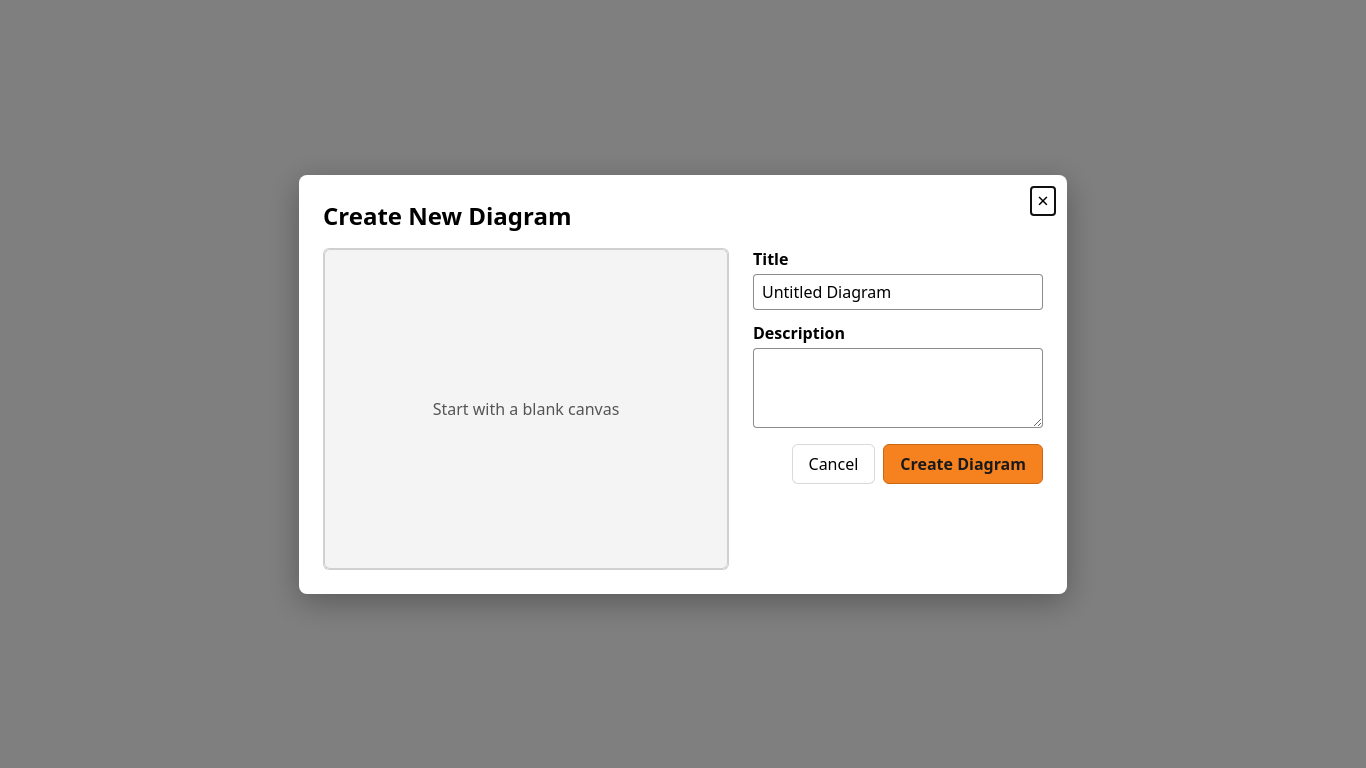
Test: CreateDiagramModal › shows a generic message when the creation failure is not an Error instance
What coordinates should you click on to do the following:
click the button "Create Diagram"
I would click on:
 (963, 464)
Its box is x1=883 y1=444 x2=1043 y2=484.
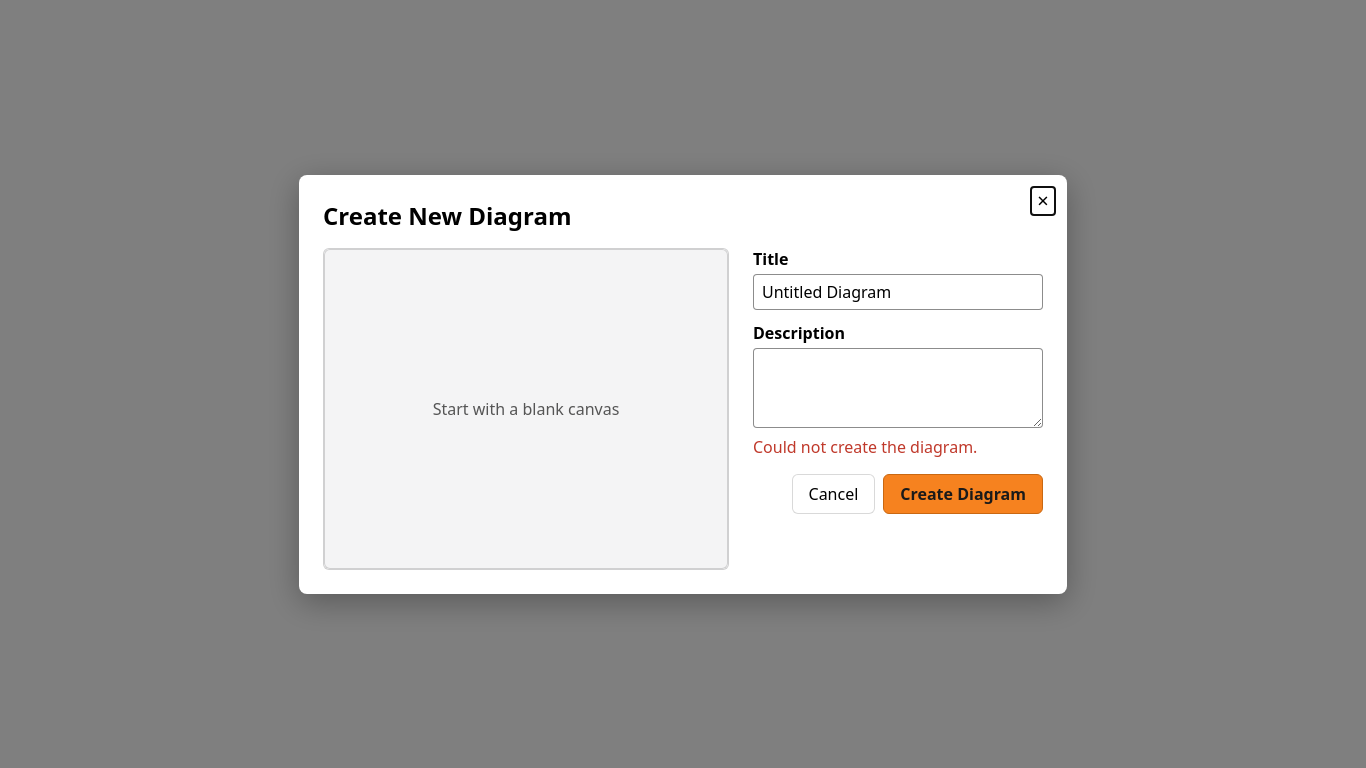
Result: the message reads "Could not create the diagram." at x1=753 y1=436 x2=977 y2=458
